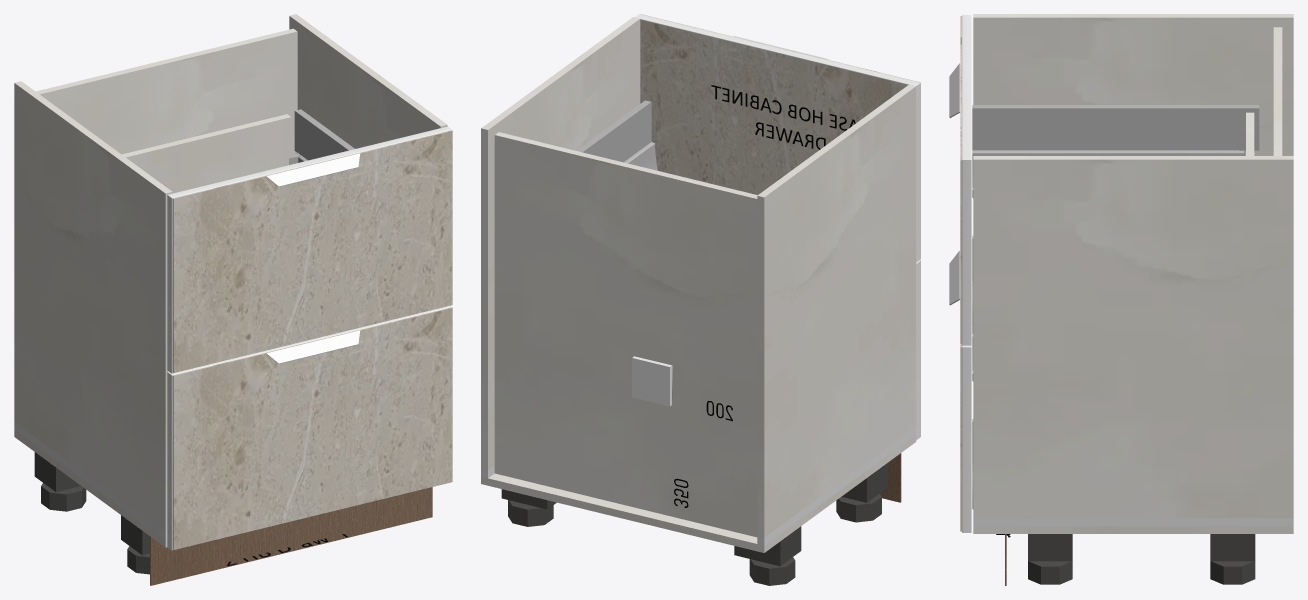
Rendered from BHC2EH_EH  (H720xW600xD560).glb.
The picture shows the model from 3 angles, left to right: view 1: azimuth 30°, elevation 25°; view 2: azimuth 150°, elevation 25°; view 3: azimuth 270°, elevation 25°; orthographic projection. The views are drawn at different scales.
Size of what is drawn, in the model's own units: 0.6 by 0.82 by 0.6.
11 materials, 3 textured.
